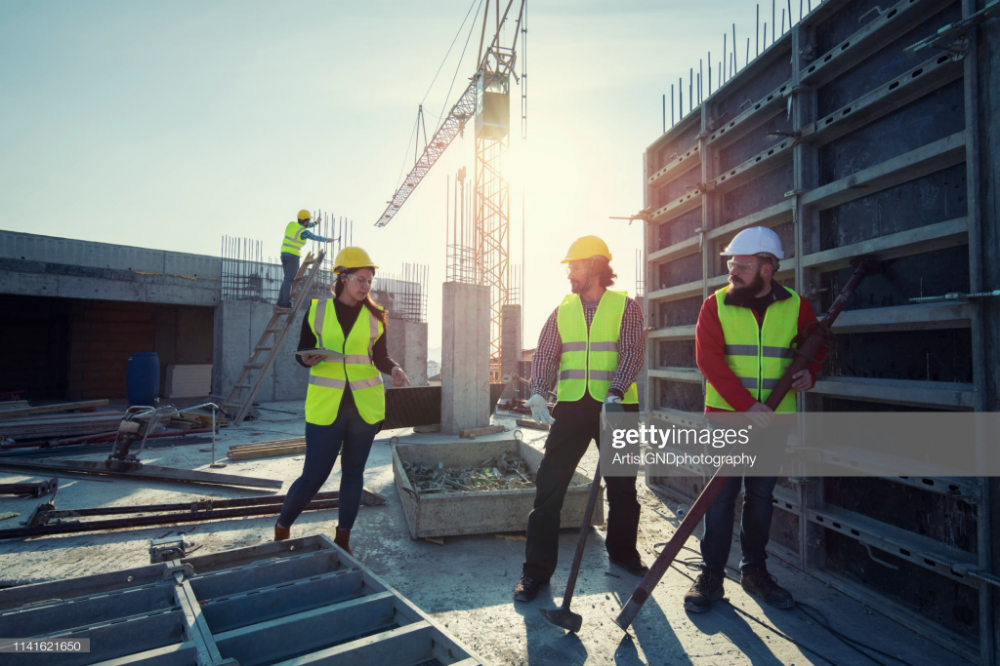With Helmet: (716, 219, 787, 292), (559, 229, 618, 300), (330, 243, 381, 312), (297, 208, 313, 229)
